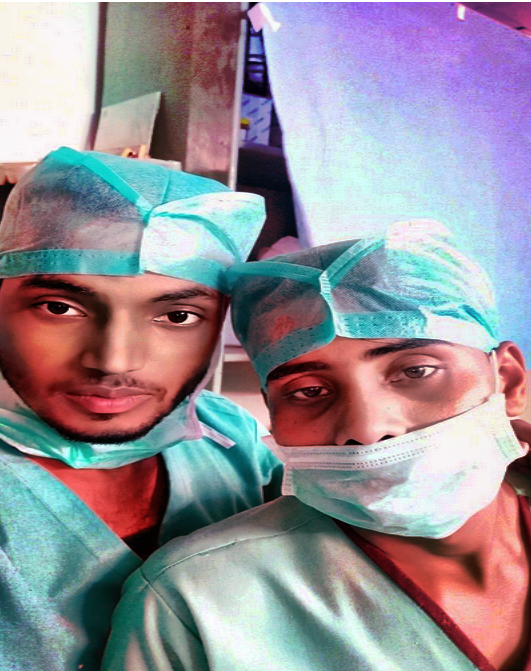mask_weared_incorrect: (227, 216, 515, 543), (1, 151, 259, 449)
